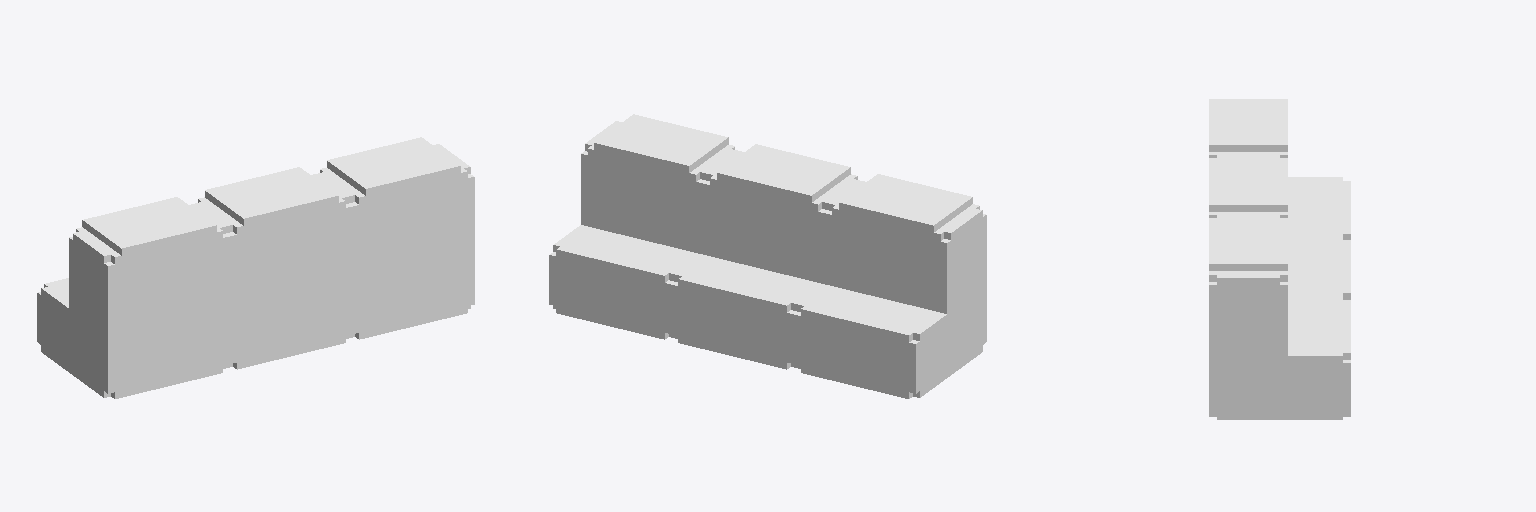
The model's file is longsofa.obj.
The picture shows the model from 3 angles: view 1: azimuth 30°, elevation 25°; view 2: azimuth 150°, elevation 25°; view 3: azimuth 270°, elevation 25°; orthographic projection.
Visible parts, largest first — view 1: object 1; view 2: object 1; view 3: object 1.
Boxes of the visible parts, x1=… form: object 1: x1=37, y1=137, x2=474, y2=398; object 1: x1=549, y1=114, x2=986, y2=398; object 1: x1=1209, y1=99, x2=1350, y2=419.
Size of the model in its own units: 5.4 by 2.1 by 1.8.